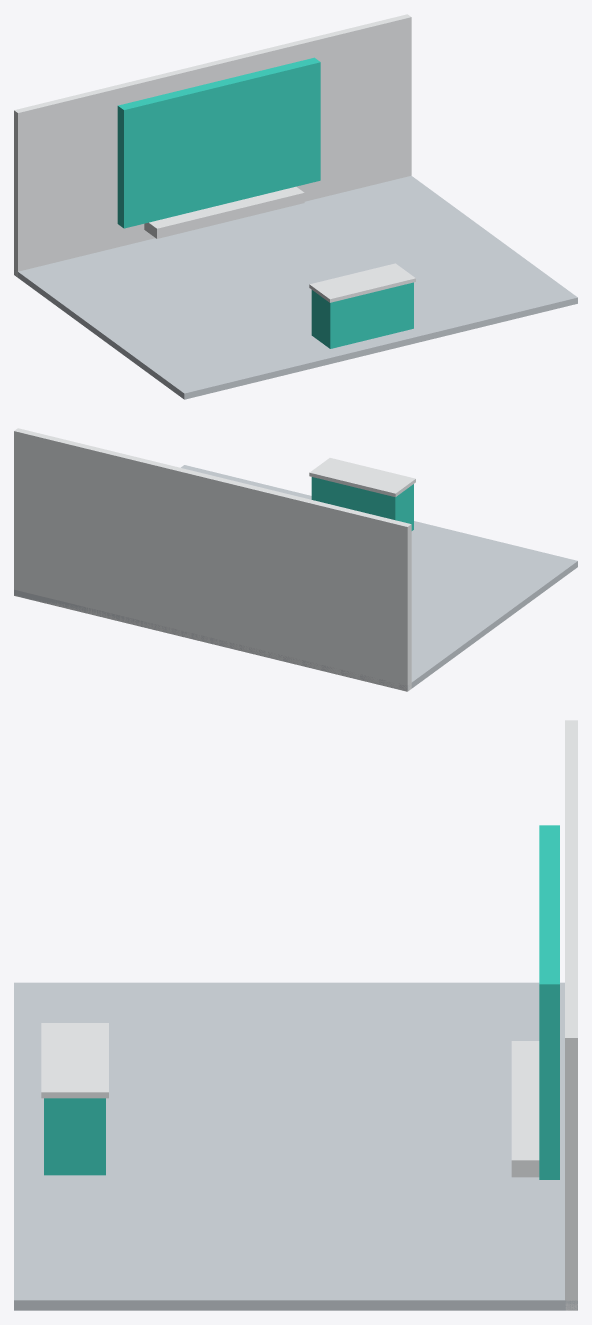
3 renders of one model, top to bottom at view 1: azimuth 30°, elevation 25°; view 2: azimuth 150°, elevation 25°; view 3: azimuth 270°, elevation 25°, orthographic. The views are drawn at different scales.
Parts seen in each view (by area): view 1: Exhibition Booth Concept; view 2: Exhibition Booth Concept; view 3: Exhibition Booth Concept.
Boxes of the visible parts, left/top/right/bottom form: Exhibition Booth Concept: left=14, top=14, right=577, bottom=399; Exhibition Booth Concept: left=14, top=428, right=577, bottom=691; Exhibition Booth Concept: left=14, top=720, right=577, bottom=1310.
Size of the model in its own units: 8 by 3.2 by 6.
